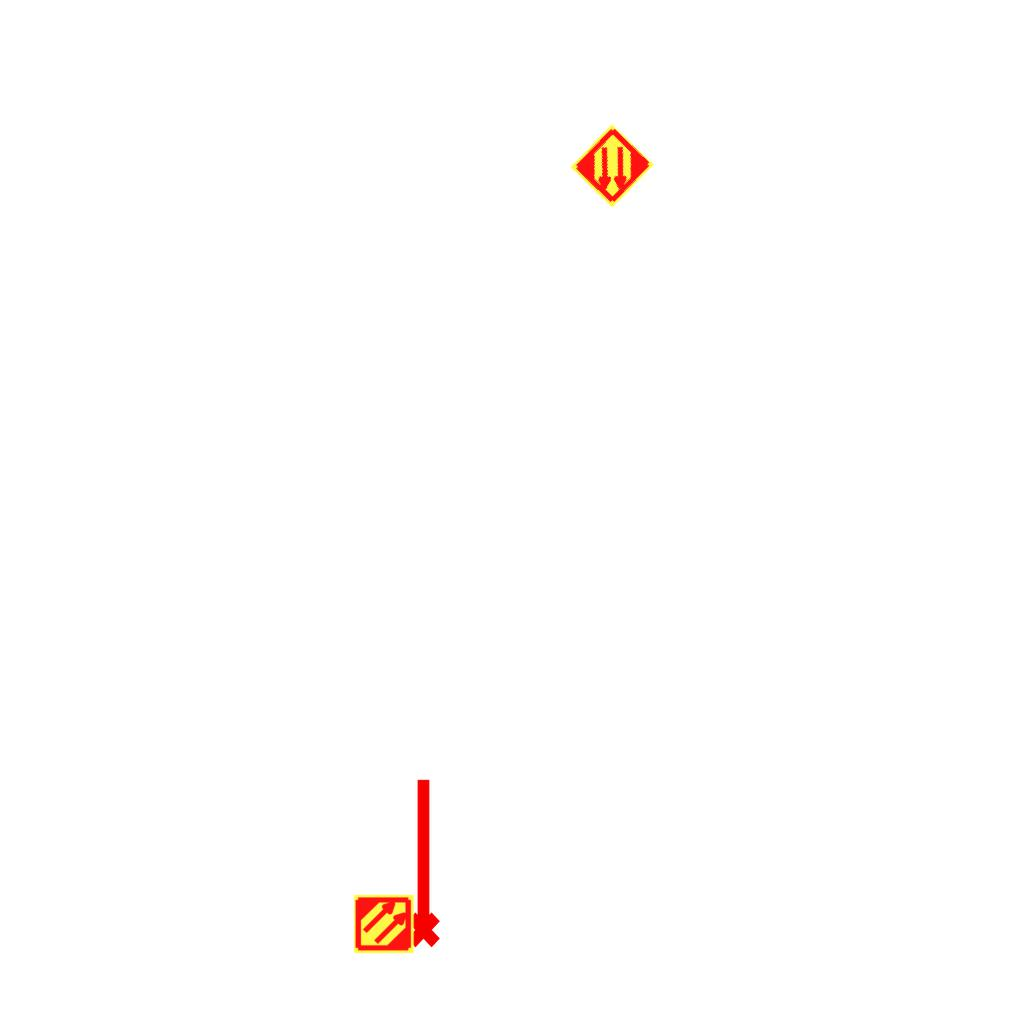ASR_Ansaugoeffnung: (398, 774, 444, 950)
ASR_Ansaugrauchmelder: (568, 122, 656, 210), (353, 893, 415, 955)
